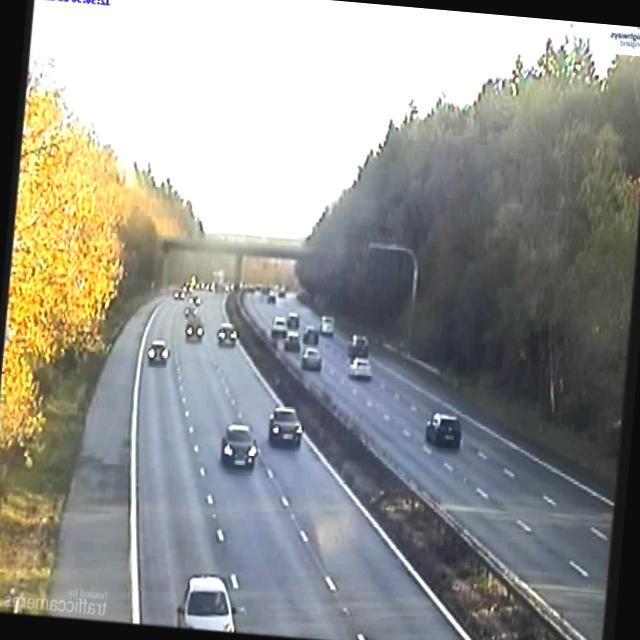foliage: (298, 36, 640, 452), (0, 82, 202, 449)
